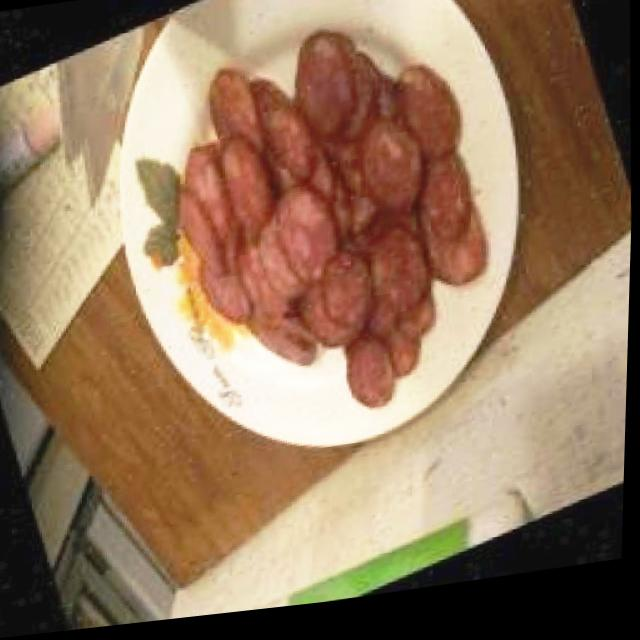chinese_sausage: (167, 6, 496, 435)
